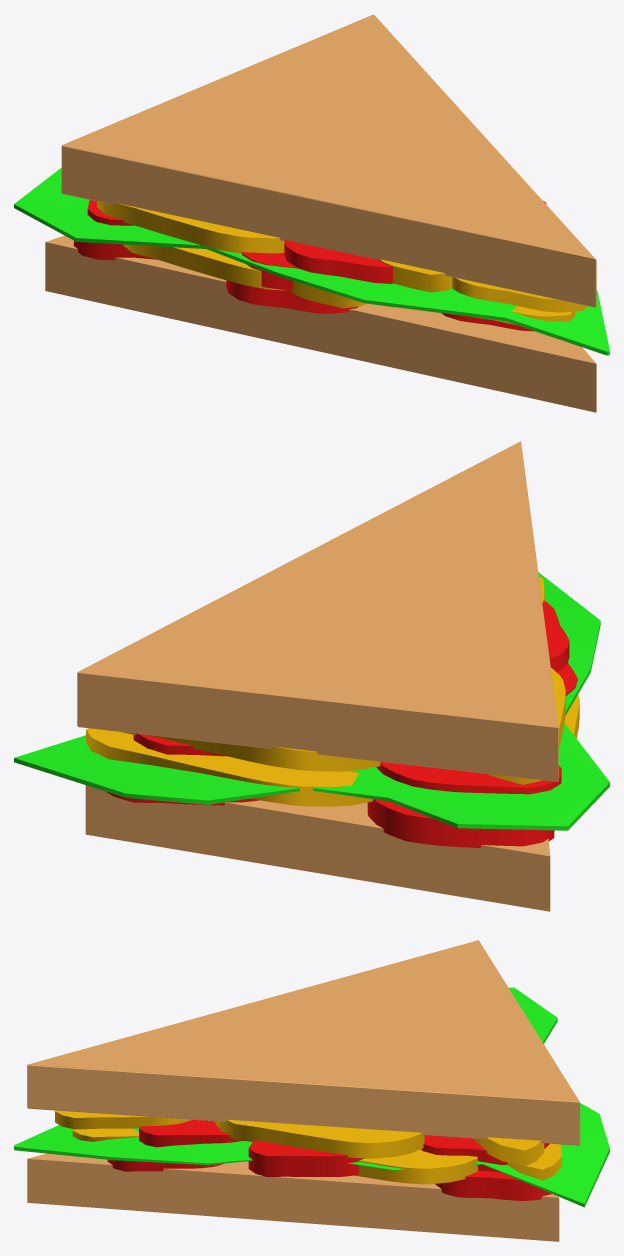
The model's file is Sandwich.obj.
The picture shows the model from 3 angles, top to bottom: view 1: azimuth 30°, elevation 25°; view 2: azimuth 150°, elevation 25°; view 3: azimuth 270°, elevation 25°; orthographic projection. The views are drawn at different scales.
Parts seen in each view (by area): view 1: Box20182, Box20181, Plane003, Cylinder039, Cylinder050, Cylinder036, Cylinder042, Cylinder029, Cylinder035, Cylinder049, Cylinder027, Cylinder032 (+1 smaller); view 2: Box20182, Box20181, Plane003, Cylinder044, Cylinder027, Cylinder043, Cylinder034, Cylinder050, Cylinder041, Cylinder039; view 3: Box20182, Box20181, Plane003, Cylinder051, Cylinder046, Cylinder031, Cylinder030, Cylinder048, Cylinder042, Cylinder041, Cylinder034, Cylinder044 (+2 smaller).
Part boxes in pixels (x1,y1,x2,y2): Box20182: (61,14,596,307); Box20181: (45,235,596,412); Plane003: (14,168,609,355); Cylinder039: (97,201,284,253); Cylinder050: (284,240,392,283); Cylinder036: (122,244,285,290); Cylinder042: (452,277,587,312); Cylinder029: (226,280,358,313); Cylinder035: (379,259,452,292); Cylinder049: (241,252,300,290); Cylinder027: (73,241,155,260); Cylinder032: (290,281,366,308); Box20182: (77,441,558,781); Box20181: (85,785,550,911); Plane003: (14,572,609,830); Cylinder044: (86,728,372,806); Cylinder027: (367,799,554,847); Cylinder043: (376,762,561,794); Cylinder034: (121,732,380,771); Cylinder050: (542,601,569,672); Cylinder041: (133,733,226,756); Cylinder039: (488,668,565,784); Box20182: (27,940,580,1145); Box20181: (27,1153,559,1241); Plane003: (14,987,609,1207); Cylinder051: (215,1119,424,1158); Cylinder046: (248,1140,363,1176); Cylinder031: (354,1149,477,1184); Cylinder030: (435,1170,551,1201); Cylinder048: (139,1120,243,1147); Cylinder042: (55,1110,192,1129); Cylinder041: (421,1135,549,1172); Cylinder034: (473,1137,544,1165); Cylinder044: (507,1143,561,1180).
Size of the model in its own units: 1577 by 513 by 2008.
